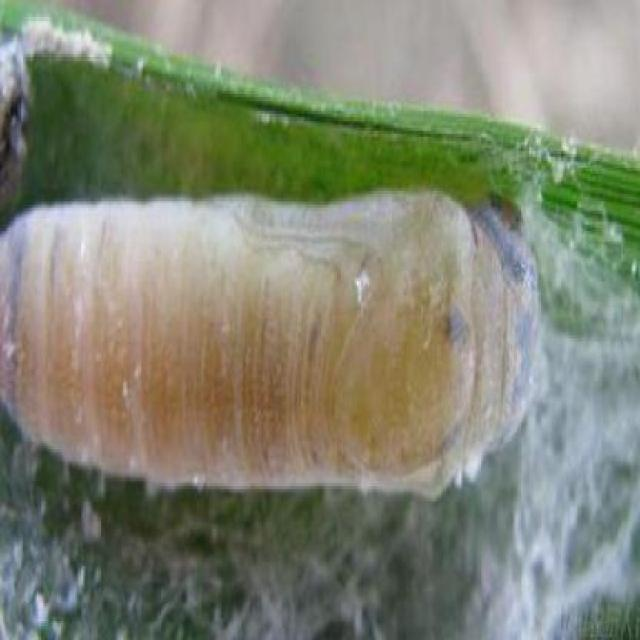leaf-folder: (19, 144, 536, 538)
